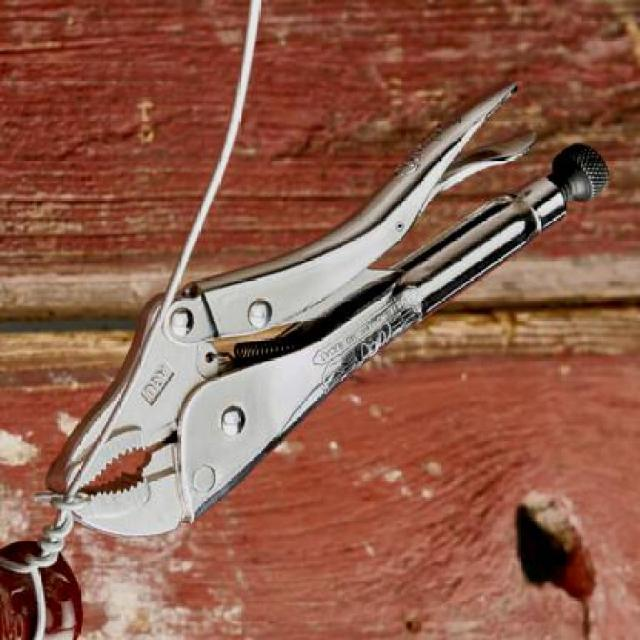pliers: (41, 80, 614, 538)
